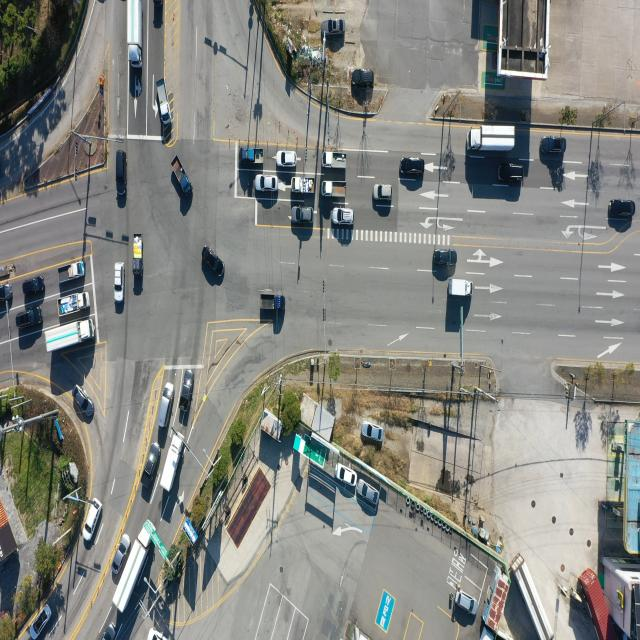car: (201, 242, 225, 283), (84, 498, 104, 541), (29, 605, 52, 640), (159, 382, 175, 428), (75, 384, 96, 419), (112, 532, 129, 572), (181, 370, 195, 413), (144, 442, 160, 479), (456, 586, 477, 614), (15, 308, 41, 330), (357, 481, 379, 506), (540, 136, 567, 156), (336, 462, 358, 486), (497, 164, 524, 183), (610, 200, 637, 219), (23, 276, 46, 296), (115, 151, 125, 195), (403, 156, 427, 174), (434, 248, 458, 266), (114, 264, 124, 304), (352, 68, 374, 86), (326, 17, 348, 35), (333, 208, 356, 225), (364, 423, 384, 442), (257, 175, 279, 192), (277, 150, 297, 167), (292, 207, 312, 224), (374, 183, 393, 200), (101, 619, 115, 640), (0, 283, 13, 303), (149, 627, 168, 640)
medium_truck: (114, 521, 158, 614), (518, 554, 557, 638), (45, 316, 96, 356), (158, 434, 184, 495), (470, 127, 518, 153), (127, 0, 144, 68)
small_truck: (174, 154, 193, 196), (61, 292, 90, 318), (260, 292, 287, 319), (57, 261, 86, 285), (158, 79, 172, 126), (449, 278, 473, 298), (321, 180, 347, 198), (322, 153, 347, 171), (291, 176, 314, 194), (134, 231, 144, 272), (240, 146, 264, 163)
